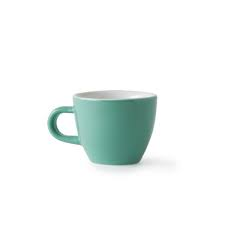cup: (45, 89, 168, 168)
